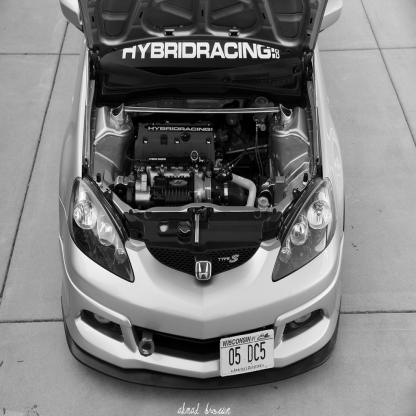Car: (60, 1, 346, 392)
